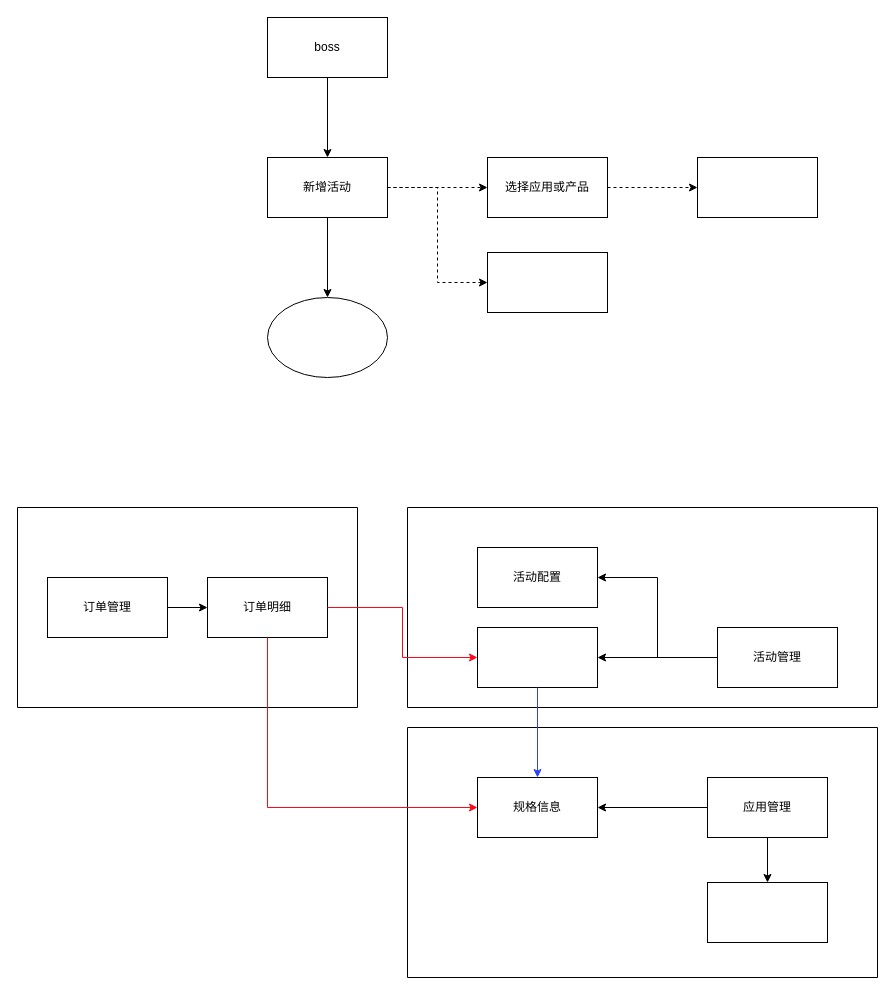
Image size: 895x995. Some labels were removed from this diagram. The shapes that lost their labels are listed below. From the top down, each one's centre as x and y in pixels, then its label:
At point (757, 187): "选择规格".
At point (547, 282): "基本信息 活动类型 适用类型".
At point (327, 337): "生成活动信息".
At point (537, 657): "活动明细".
At point (767, 912): "应用信息".
